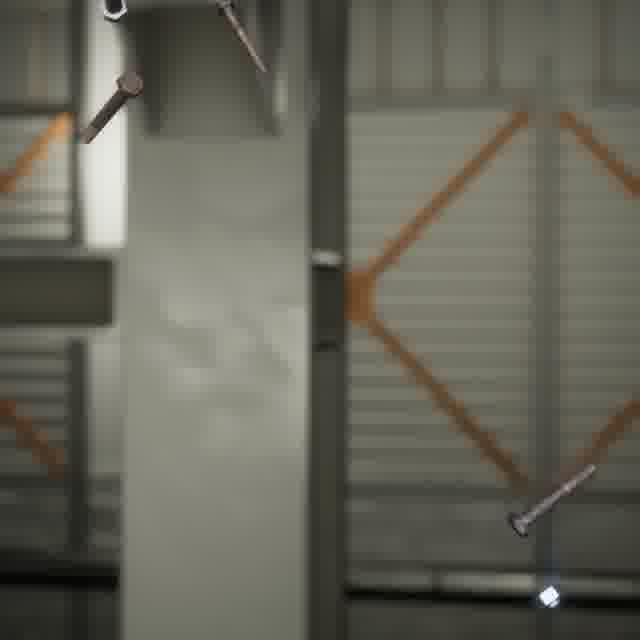bolt: (502, 457, 601, 542), (75, 66, 148, 148), (210, 0, 273, 79), (96, 0, 131, 28)
nut: (529, 579, 570, 616)
